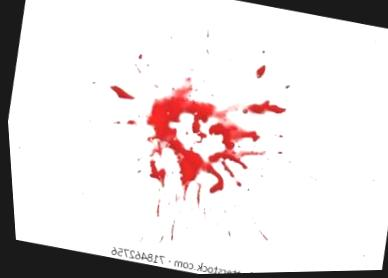Fire: (143, 78, 283, 202), (148, 129, 220, 201), (148, 178, 202, 248), (146, 161, 162, 188), (107, 87, 132, 98), (254, 67, 264, 79)
